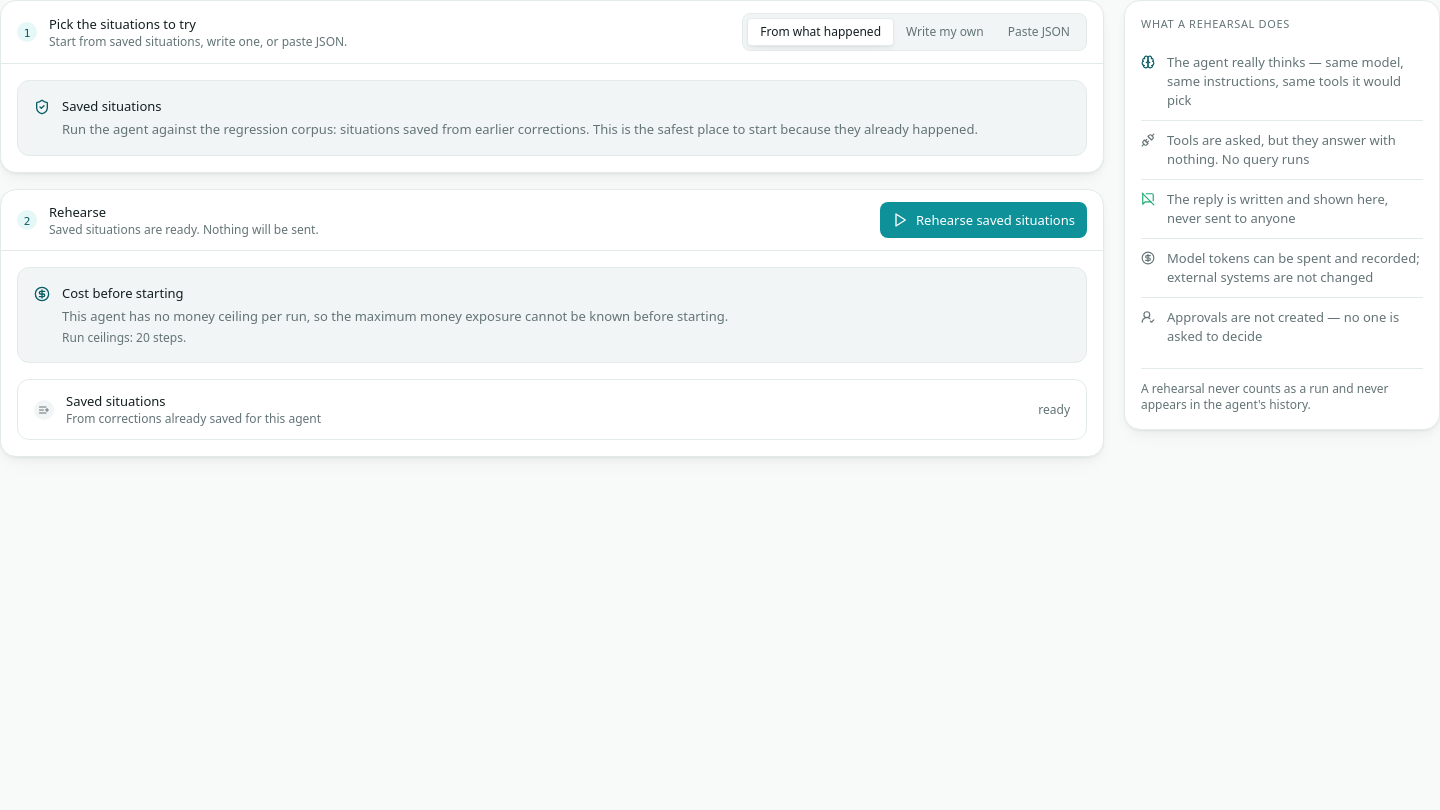
Scenario: starting a simulation › will not start a pasted set with nothing to run
The width and height of the screenshot is (1440, 810).
Click the button "Paste JSON".
click(1039, 32)  # box x1=996 y1=18 x2=1082 y2=46
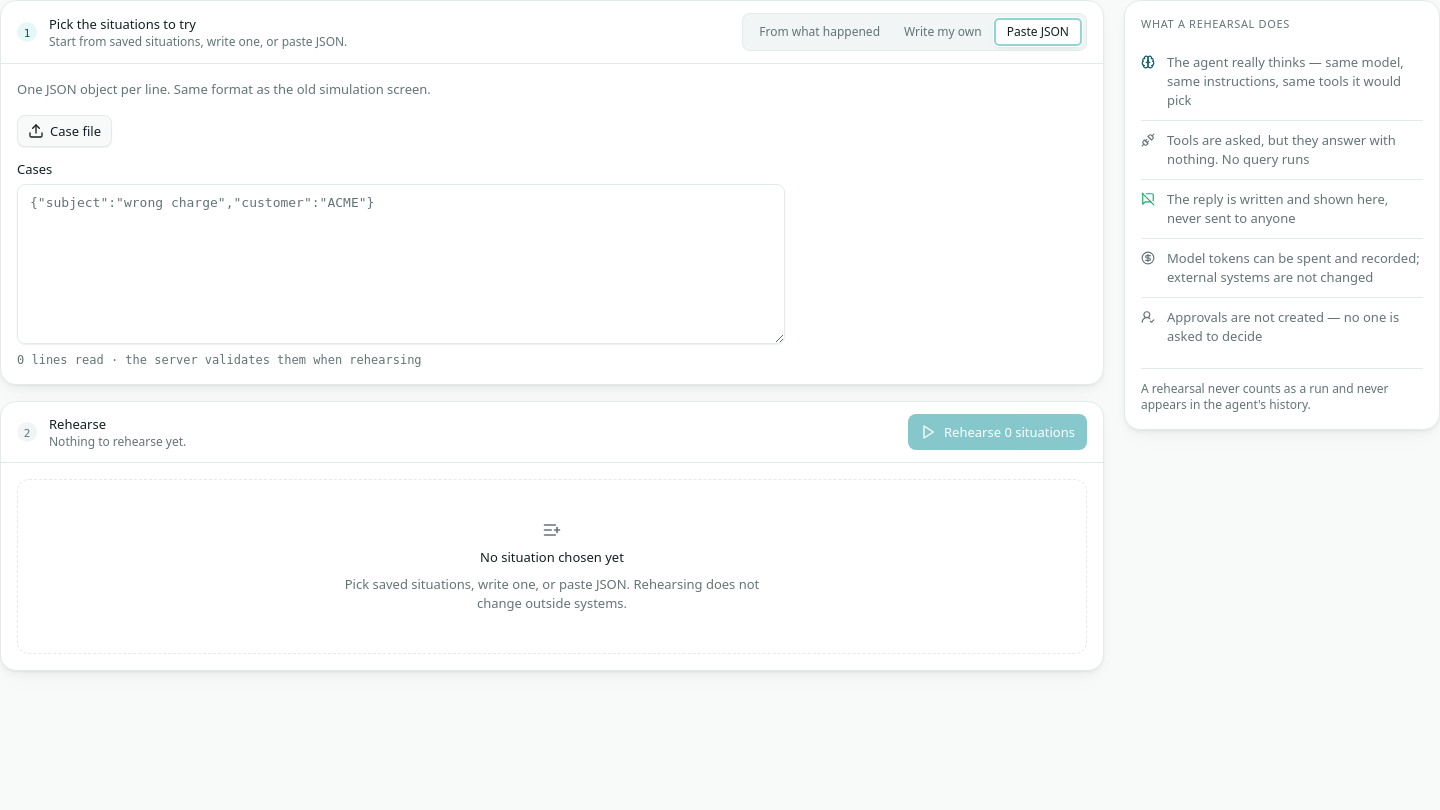
expect the button "Rehearse 0 situations" is disabled: met, box x1=908 y1=414 x2=1087 y2=450
